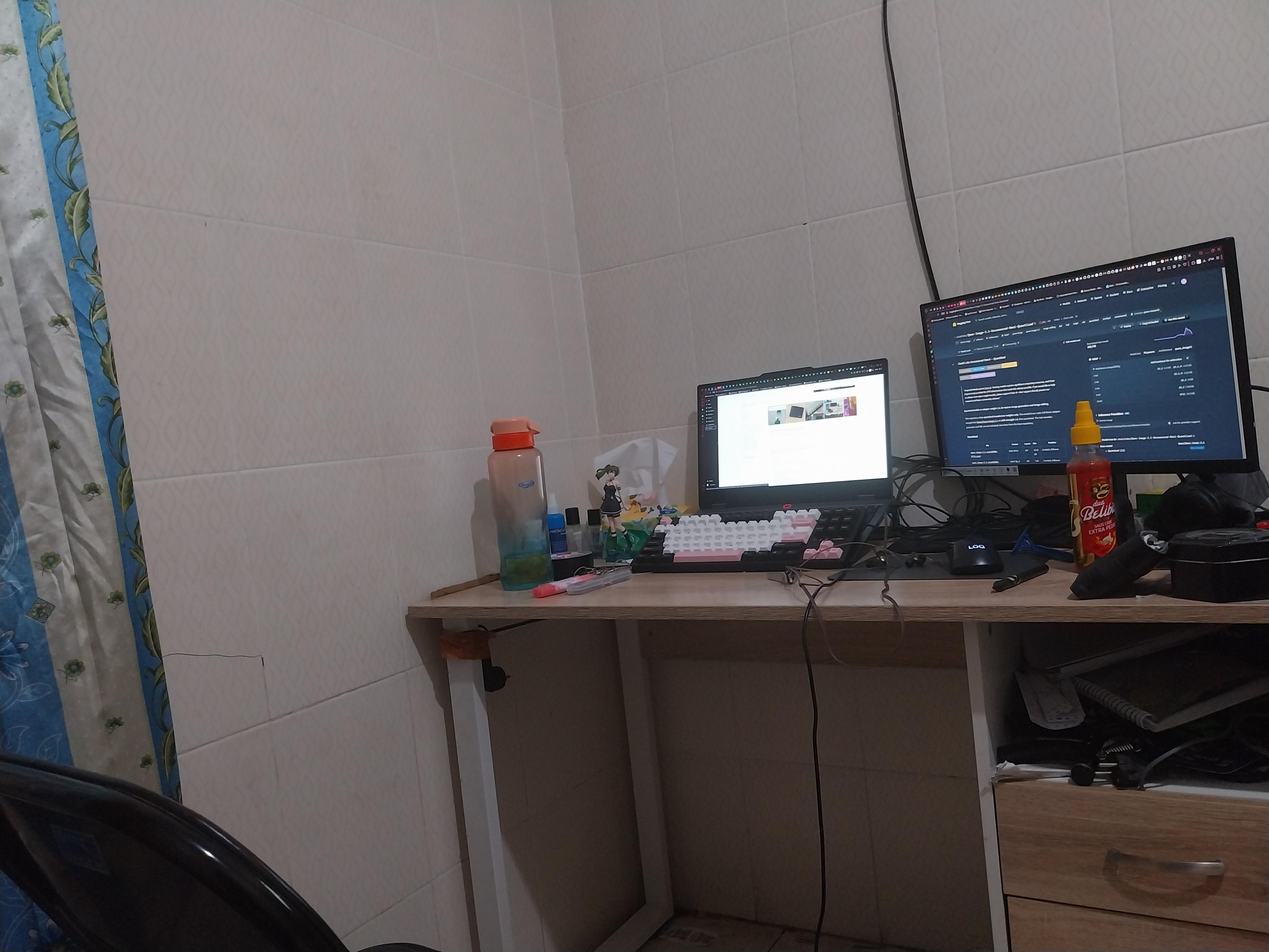chair: (0, 755, 346, 952), (373, 944, 430, 952)
curtain: (0, 0, 179, 809), (0, 880, 56, 952)
keyboard: (628, 509, 869, 577)
laptop: (693, 353, 899, 565)
mouse: (946, 533, 1003, 579)
